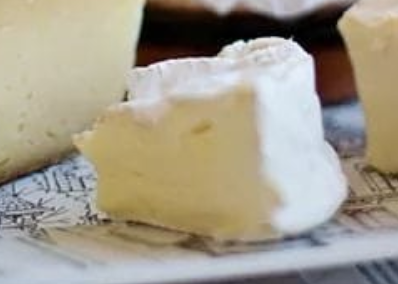camembert: (66, 35, 349, 245)
